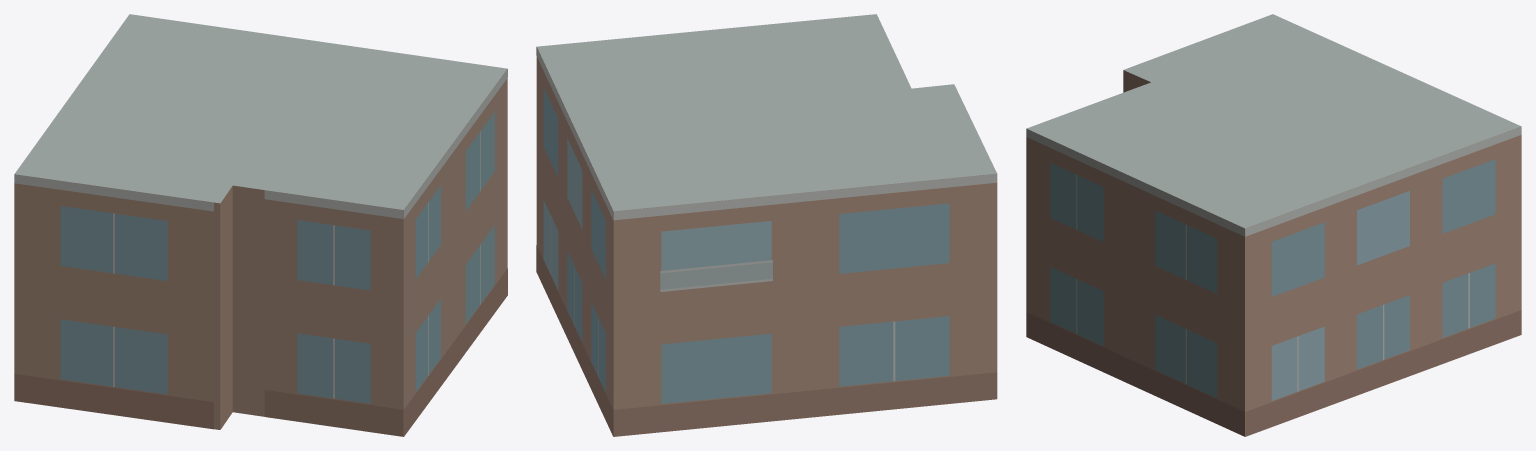
Rendered from survey-upis-32793634.glb.
3 views of the same model, side by side, from view 1: azimuth 30°, elevation 25°; view 2: azimuth 150°, elevation 25°; view 3: azimuth 270°, elevation 25° (orthographic). The views are drawn at different scales.
Parts seen in each view (by area): view 1: survey-upis-32793634.tmp; view 2: survey-upis-32793634.tmp; view 3: survey-upis-32793634.tmp.
Boxes of the visible parts, left/top/right/bottom form: survey-upis-32793634.tmp: left=14, top=14, right=507, bottom=436; survey-upis-32793634.tmp: left=536, top=14, right=997, bottom=436; survey-upis-32793634.tmp: left=1026, top=14, right=1521, bottom=436.
Bounding box in the file's own units: 13.47 × 6.1 × 13.15.
